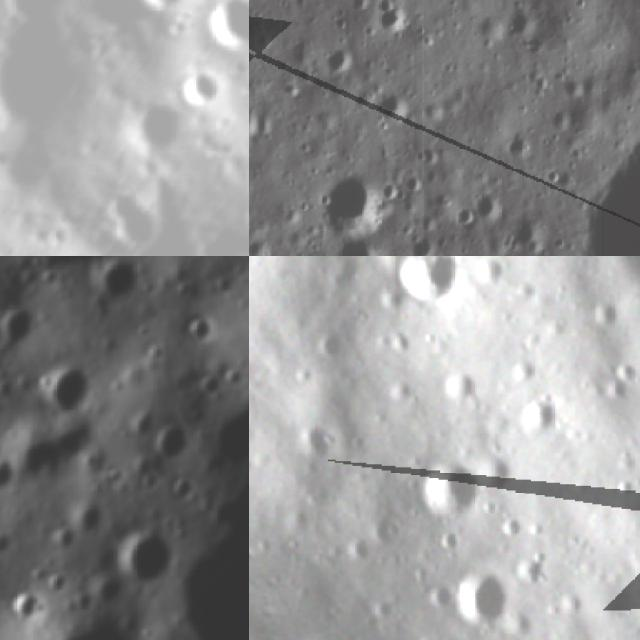crater: (0, 569, 197, 640), (98, 504, 198, 603), (24, 342, 117, 434), (416, 448, 498, 533), (380, 256, 473, 322), (82, 256, 169, 321), (100, 182, 174, 256), (442, 566, 516, 640), (136, 404, 207, 474), (170, 296, 237, 362), (321, 169, 386, 235), (0, 282, 55, 359), (0, 0, 99, 42), (127, 92, 191, 151), (508, 388, 566, 445), (505, 546, 558, 598), (195, 0, 249, 51), (177, 55, 219, 108), (376, 82, 422, 128), (436, 366, 481, 410), (375, 375, 421, 417), (292, 415, 334, 460), (320, 34, 357, 84), (470, 177, 512, 221), (504, 0, 545, 45), (371, 0, 413, 40), (586, 297, 628, 335), (321, 234, 387, 256), (501, 606, 543, 640), (552, 584, 591, 620), (249, 95, 273, 146), (342, 535, 377, 569), (493, 510, 529, 543), (610, 353, 640, 392), (369, 591, 402, 625), (395, 469, 427, 504), (422, 584, 454, 618), (609, 473, 640, 505), (433, 524, 466, 554), (379, 515, 408, 547), (602, 378, 628, 407), (132, 0, 194, 12), (610, 443, 638, 469), (524, 518, 549, 543), (402, 502, 426, 527), (476, 495, 501, 518), (253, 534, 275, 558), (406, 628, 446, 640), (249, 238, 270, 256), (249, 196, 258, 233)
